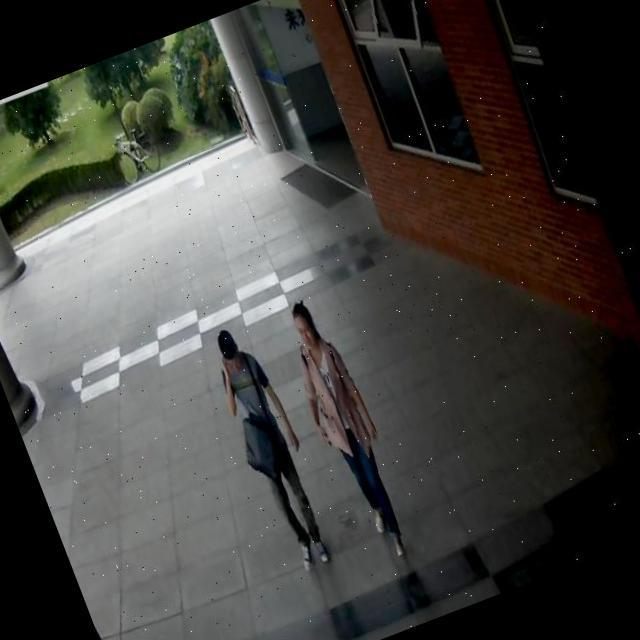person: (270, 290, 428, 574), (200, 316, 347, 580)
